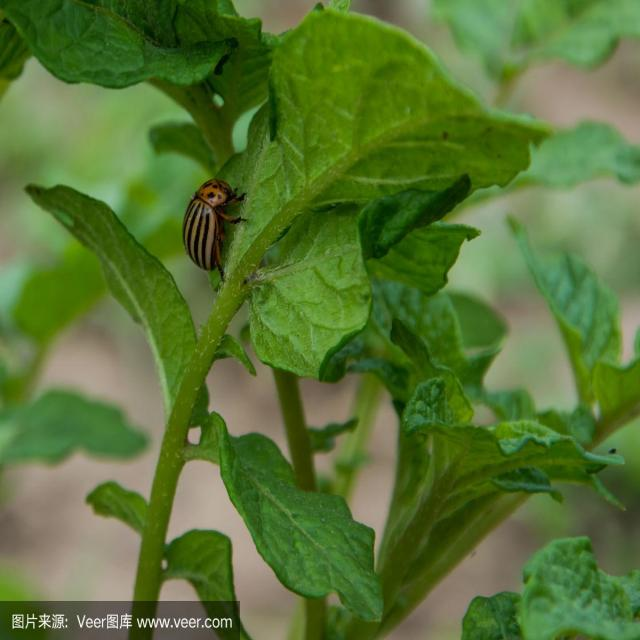ShuCaiHuaBanChong-Grown-: (178, 169, 244, 287)
